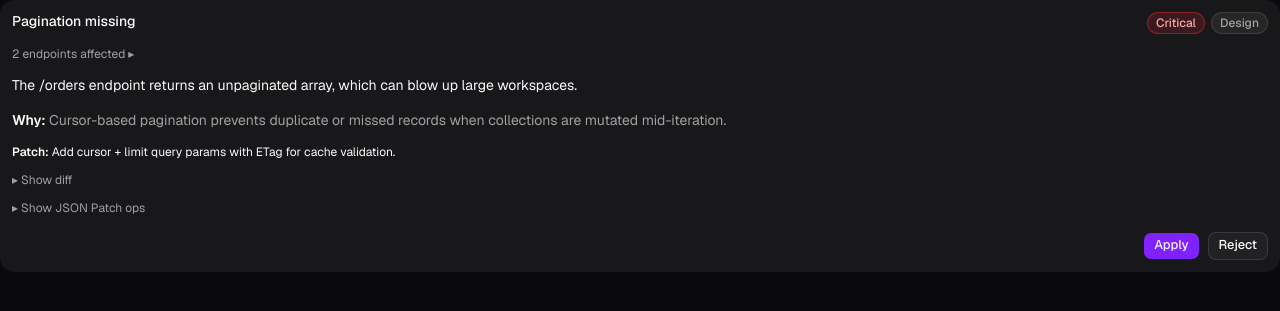
FindingCard — toggles › "Show diff" with empty patchOps shows the "No diff available" message
The width and height of the screenshot is (1280, 311).
Click the button "▸ Show diff".
click(42, 180)  # box [12, 172, 73, 188]
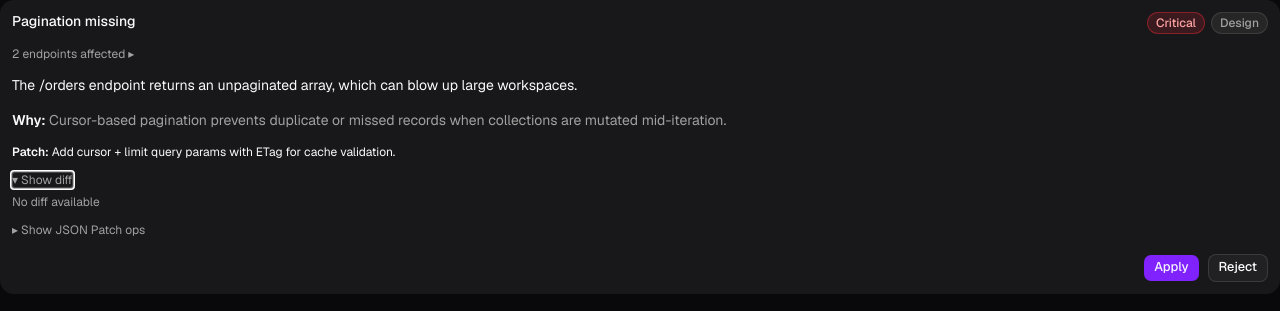
Check: the text "No diff available" is shown, box [12, 194, 100, 210]
